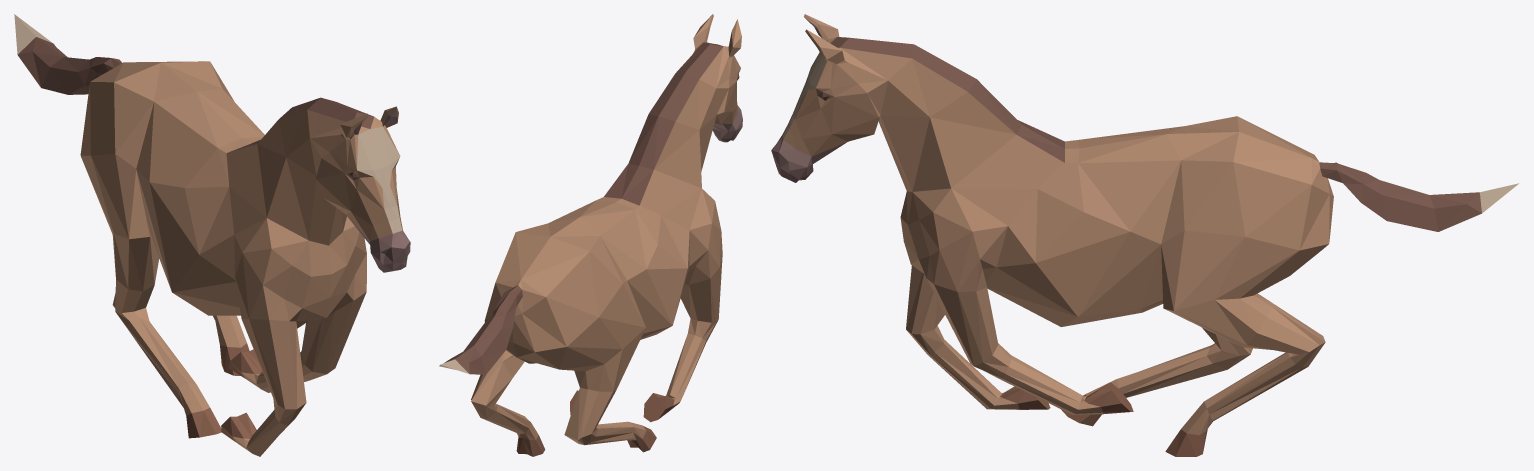
File: horse.glb
The picture shows the model from 3 angles, left to right: view 1: azimuth 30°, elevation 25°; view 2: azimuth 150°, elevation 25°; view 3: azimuth 270°, elevation 25°; orthographic projection. The views are drawn at different scales.
Visible parts, largest first — view 1: mesh_0; view 2: mesh_0; view 3: mesh_0.
Boxes of the visible parts, left/top/right/bottom form: mesh_0: left=14, top=14, right=410, bottom=456; mesh_0: left=439, top=14, right=742, bottom=456; mesh_0: left=771, top=14, right=1518, bottom=456.
Bounding box in the file's own units: 66.27 × 171 × 277.
